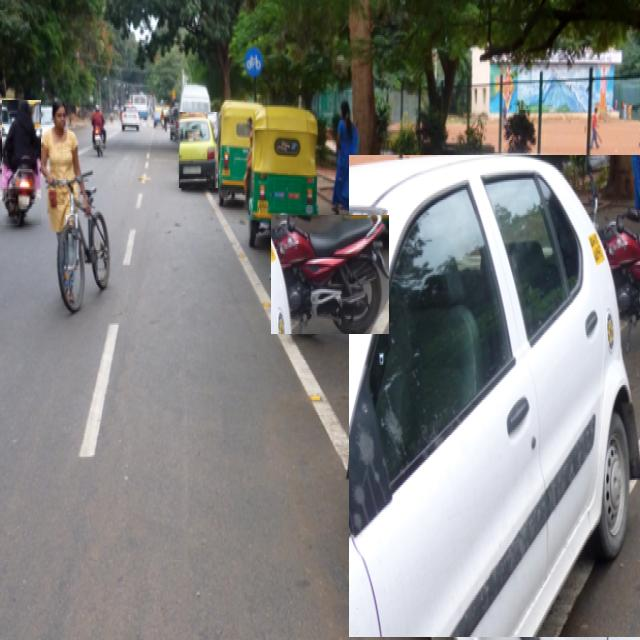autorickshaw: (246, 107, 319, 245), (218, 101, 259, 203)
bicycle: (41, 101, 110, 312)
car: (349, 155, 640, 637), (179, 113, 218, 188)
motorcycle: (271, 216, 389, 334), (2, 101, 40, 225)
